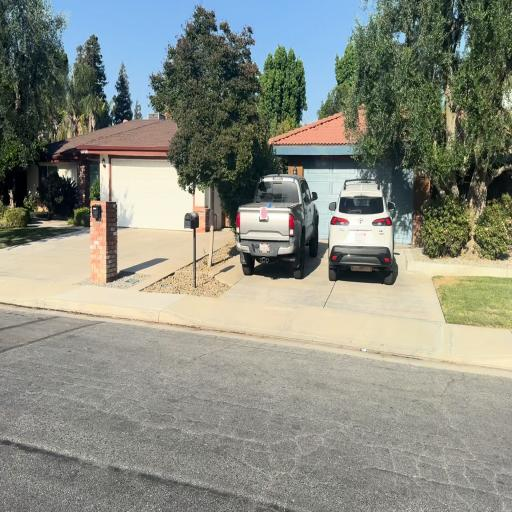bullseye: (261, 207, 268, 220)
